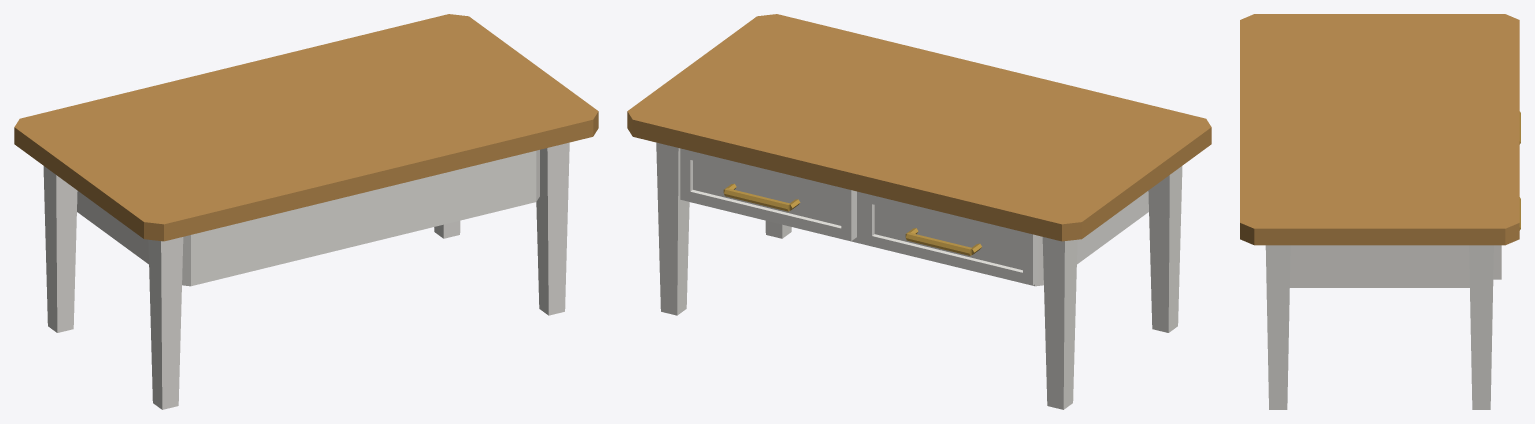
File: SM_LPI_Table_Coffee_05.fbx
3 views of the same model, side by side, from view 1: azimuth 30°, elevation 25°; view 2: azimuth 150°, elevation 25°; view 3: azimuth 270°, elevation 25° (orthographic). The views are drawn at different scales.
Visible parts, largest first — view 1: SM_LPI_Table_Coffee_05; view 2: SM_LPI_Table_Coffee_05; view 3: SM_LPI_Table_Coffee_05.
Boxes of the visible parts, x1=… form: SM_LPI_Table_Coffee_05: x1=14, y1=14, x2=598, y2=409; SM_LPI_Table_Coffee_05: x1=627, y1=14, x2=1211, y2=409; SM_LPI_Table_Coffee_05: x1=1240, y1=14, x2=1520, y2=409.
Size of the model in its own units: 1 by 0.42 by 0.5525.
